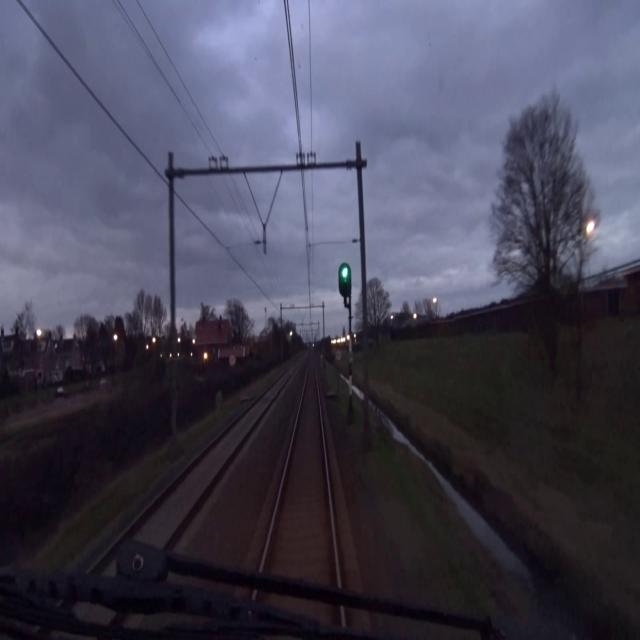rail-track: (129, 366, 293, 542), (265, 355, 336, 580), (96, 555, 109, 569)
